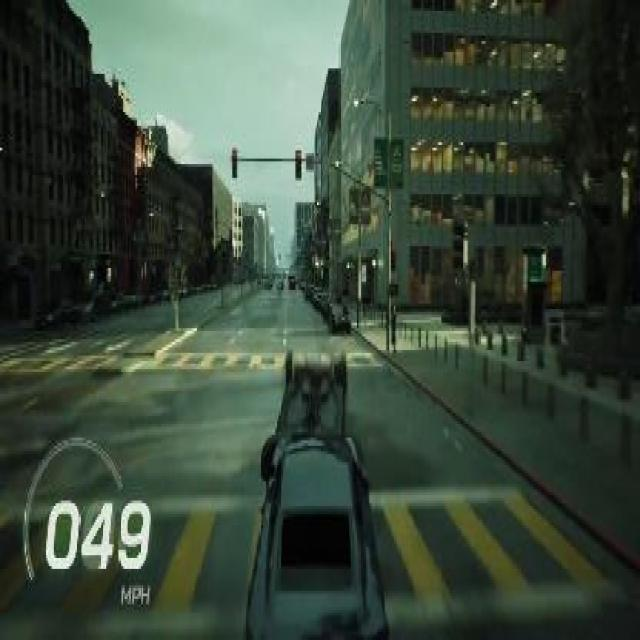accident: (242, 345, 391, 637)
